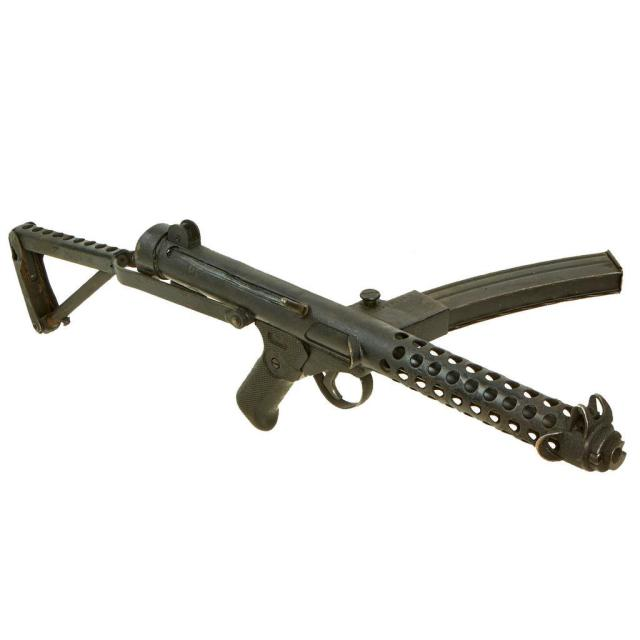weapon: (6, 214, 627, 475)
